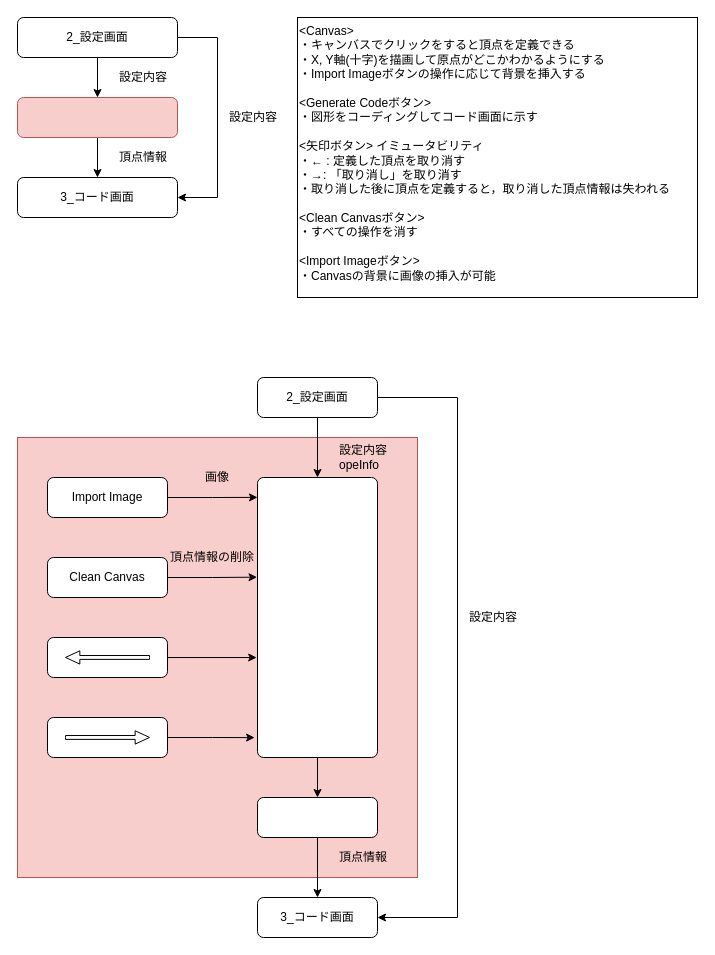
Some shapes in this 715 by 955 pixel diagram are drawn without their labels. Each missing label, with the centre of its shape:
"1_操作画面" belongs at point (97, 117).
"Canvas" belongs at point (317, 617).
"Generate Code" belongs at point (317, 817).
